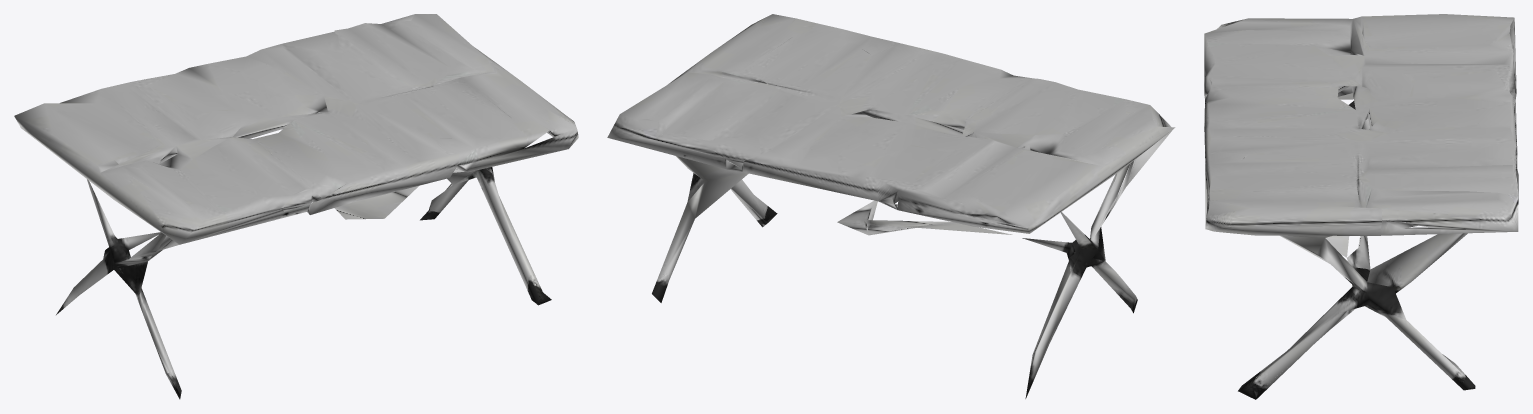
Rendered from tavolo.glb.
3 views of the same model, side by side, from view 1: azimuth 30°, elevation 25°; view 2: azimuth 150°, elevation 25°; view 3: azimuth 270°, elevation 25° (orthographic).
Parts seen in each view (by area): view 1: tripo_node_740584f8-2aa9-4628-b3cd-46d13c7223aa; view 2: tripo_node_740584f8-2aa9-4628-b3cd-46d13c7223aa; view 3: tripo_node_740584f8-2aa9-4628-b3cd-46d13c7223aa.
Boxes of the visible parts, <box> form: tripo_node_740584f8-2aa9-4628-b3cd-46d13c7223aa: <box>14,14,578,399</box>; tripo_node_740584f8-2aa9-4628-b3cd-46d13c7223aa: <box>607,14,1175,398</box>; tripo_node_740584f8-2aa9-4628-b3cd-46d13c7223aa: <box>1204,14,1518,399</box>.
Size of the model in its own units: 2.19 by 1 by 1.42.
Materials: 1 (1 with a texture image).
